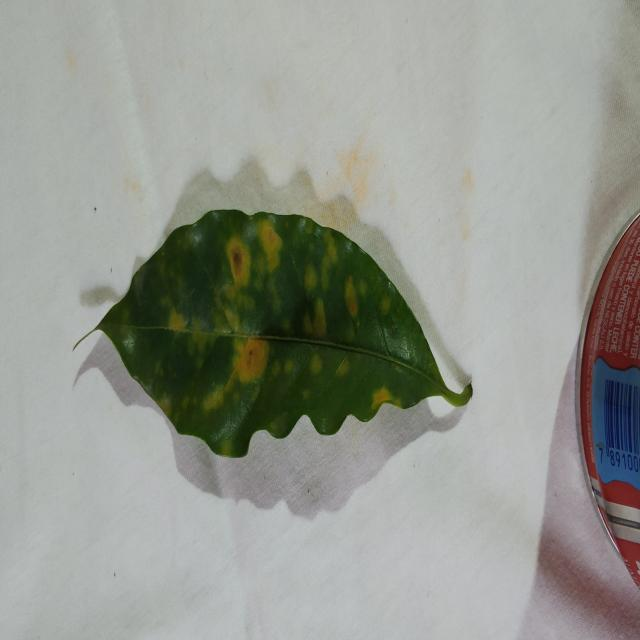Enfermedad-Roya: (91, 210, 472, 462)
